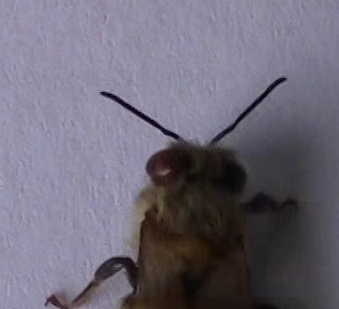Varroa destructor: (144, 150, 185, 181)
